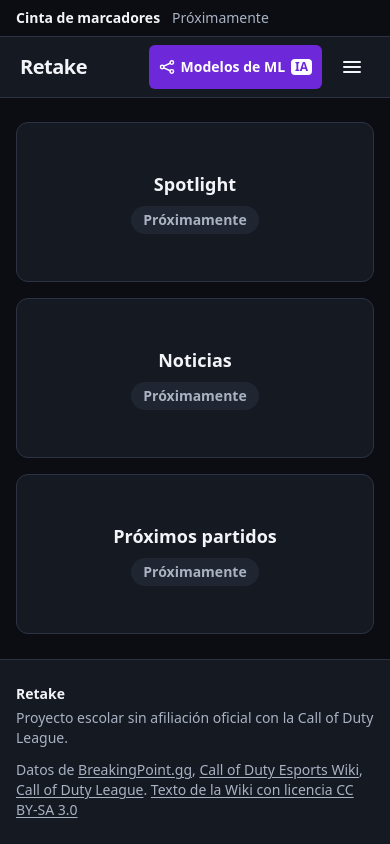
menú plegado (RF-16 a RF-22, RF-82, RF-83) › cambiar de idioma con el panel abierto lo mantiene abierto (RF-64)
The image size is (390, 844).
Click the button named "menú" at (352, 67), box [330,45,374,89]
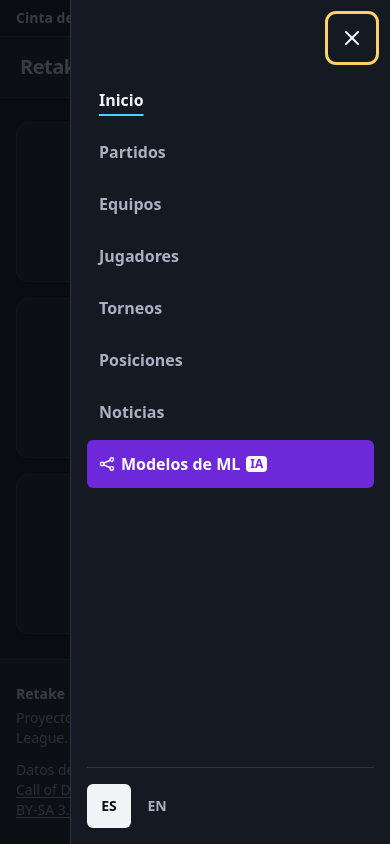
Click the button with aria-label "English" at (157, 806), box [135,784,179,828]
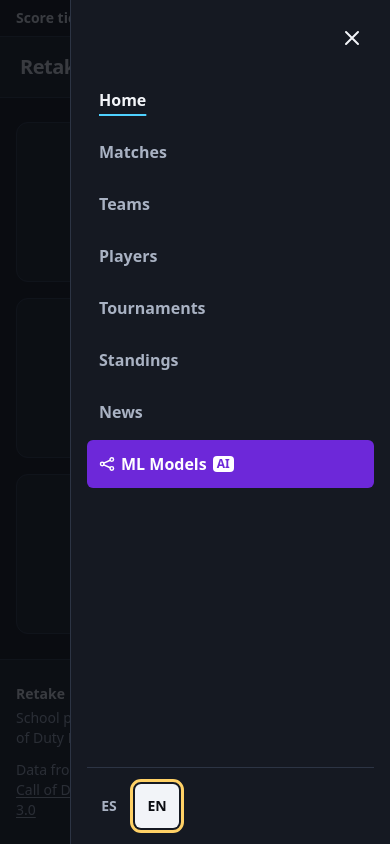
Expected: the dialog named "Sections menu" is shown
